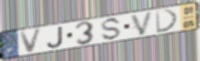3: (75, 20, 96, 46)
D: (154, 8, 180, 34)
J: (45, 25, 65, 49)
S: (100, 17, 123, 42)
V: (19, 27, 44, 55), (130, 11, 155, 37)
